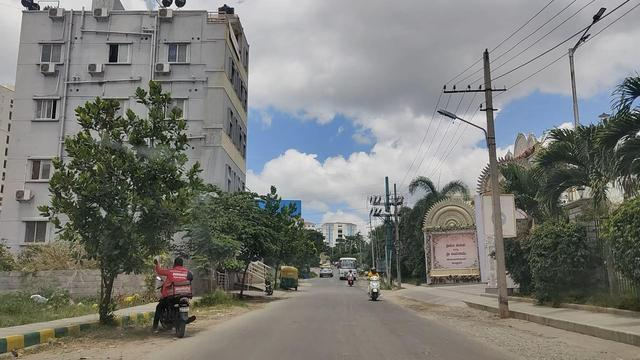LMV: (151, 243, 202, 343)
RoadDamages: (419, 319, 529, 360)
